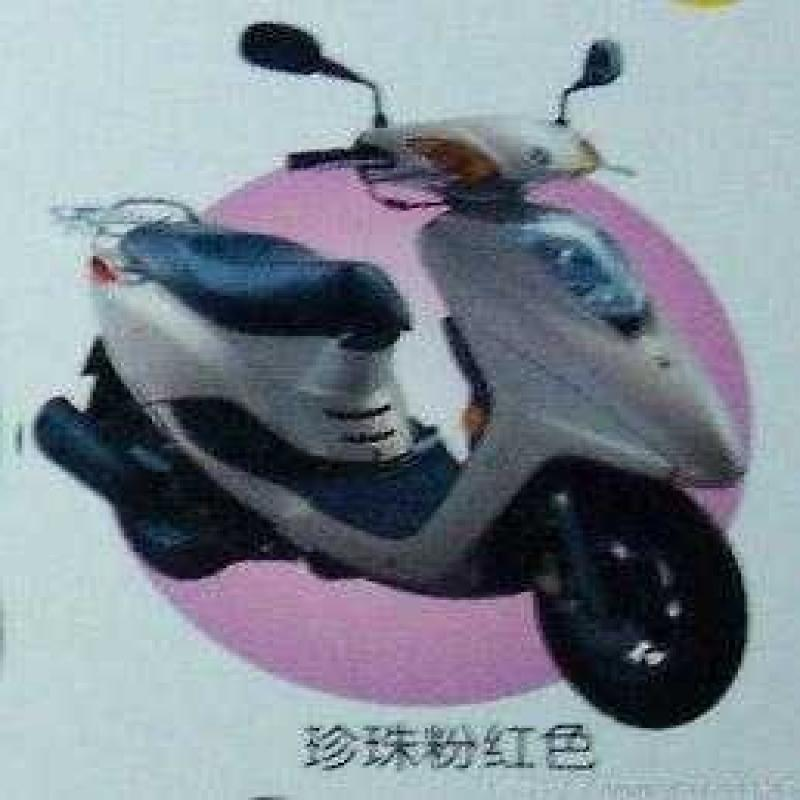bike: (48, 13, 777, 702)
